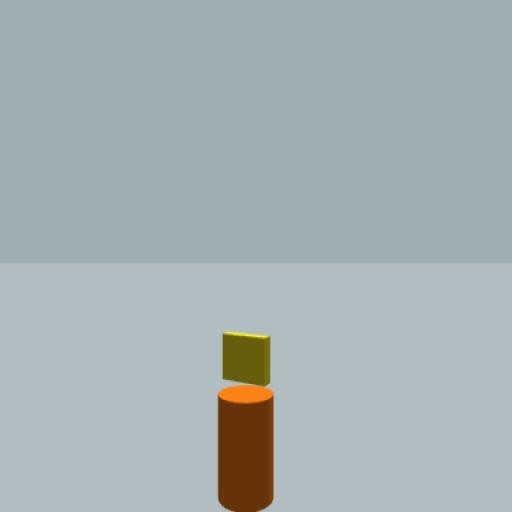buoy: (215, 329, 277, 512)
